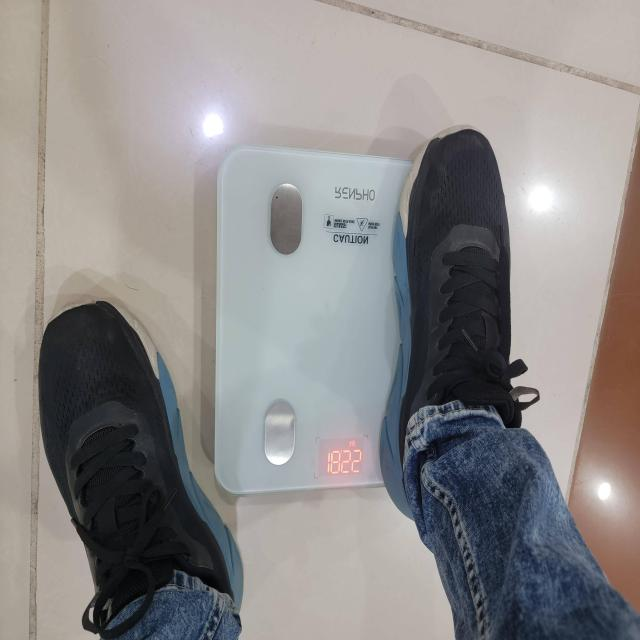ws: (212, 146, 414, 500)
